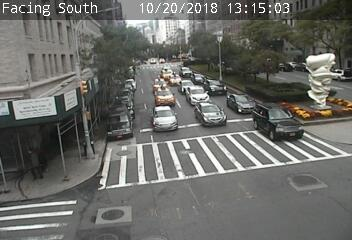car: (253, 103, 303, 140), (195, 102, 226, 126), (153, 106, 177, 131), (227, 94, 257, 114), (185, 85, 209, 106), (155, 88, 175, 106), (204, 79, 226, 95), (152, 78, 168, 93), (178, 80, 195, 94), (191, 73, 207, 85), (160, 69, 175, 81), (168, 74, 182, 86), (179, 67, 193, 77)
